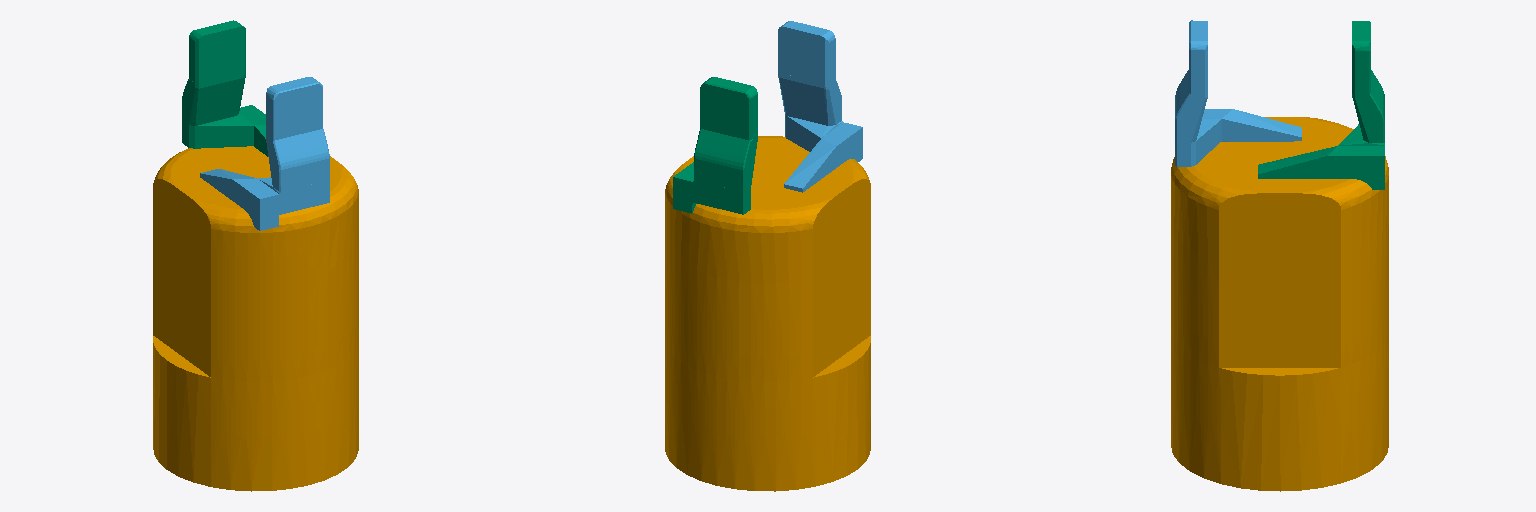
The robot description file, URDF, robot "bowen":
<robot name="bowen" version="1.6">
  <link name="robotiq_hande_gripper_body">
    <inertial>
      <mass value="1" />
      <inertia ixx="0.1" ixy="0" ixz="0" iyy="0.1" iyz="0" izz="0.1" />
    </inertial>
    <visual name="visual1">
      <origin rpy="0 0 0" xyz="0 0 0" />
      <geometry>
        <mesh filename="robotiq_hande/robotiq_hande_body_c01.stl">
        </mesh>
      </geometry>
    </visual>
    <visual name="visual2">
      <origin rpy="0 0 0" xyz="0 0 0" />
      <geometry>
        <mesh filename="robotiq_hande/robotiq_hande_body_c02.stl">
        </mesh>
      </geometry>
    </visual>
    <collision name="collision1">
      <origin rpy="0 0 0" xyz="0 0 0" />
      <geometry>
        <mesh filename="robotiq_hande/robotiq_hande_body_c01.stl">
        </mesh>
      </geometry>
    </collision>
    <collision name="collision2">
      <origin rpy="0 0 0" xyz="0 0 0" />
      <geometry>
        <mesh filename="robotiq_hande/robotiq_hande_body_c02.stl">
        </mesh>
      </geometry>
    </collision>
    <origin rpy="0.0 -0.0 0.0" xyz="0.0 0.0 0.0" />
  </link>


  <link name="robotiq_hande_gripper_finger1">
    <inertial>
      <mass value="1" />
      <inertia ixx="0.1" ixy="0" ixz="0" iyy="0.1" iyz="0" izz="0.1" />
    </inertial>
    <visual name="visual1">
      <origin rpy="0 0 0" xyz="0 0 0" />
      <geometry>
        <mesh filename="robotiq_hande/robotiq_hande_finger_c01.stl">
        </mesh>
      </geometry>
    </visual>
    <visual name="visual2">
      <origin rpy="0 0 0" xyz="0 0 0" />
      <geometry>
        <mesh filename="robotiq_hande/robotiq_hande_finger_c02.stl">
        </mesh>
      </geometry>
    </visual>
    <visual name="visual3">
      <origin rpy="0 0 0" xyz="0 0 0" />
      <geometry>
        <mesh filename="robotiq_hande/robotiq_hande_finger_c03.stl">
        </mesh>
      </geometry>
    </visual>
    <visual name="visual4">
      <origin rpy="0 0 0" xyz="0 0 0" />
      <geometry>
        <mesh filename="robotiq_hande/robotiq_hande_finger_c04.stl">
        </mesh>
      </geometry>
    </visual>
    <collision name="collision1">
      <origin rpy="0 0 0" xyz="0 0 0" />
      <geometry>
        <mesh filename="robotiq_hande/robotiq_hande_finger_c01.stl">
        </mesh>
      </geometry>
    </collision>
    <collision name="collision2">
      <origin rpy="0 0 0" xyz="0 0 0" />
      <geometry>
        <mesh filename="robotiq_hande/robotiq_hande_finger_c02.stl">
        </mesh>
      </geometry>
    </collision>
    <collision name="collision3">
      <origin rpy="0 0 0" xyz="0 0 0" />
      <geometry>
        <mesh filename="robotiq_hande/robotiq_hande_finger_c03.stl">
        </mesh>
      </geometry>
    </collision>
    <collision name="collision4">
      <origin rpy="0 0 0" xyz="0 0 0" />
      <geometry>
        <mesh filename="robotiq_hande/robotiq_hande_finger_c04.stl">
        </mesh>
      </geometry>
    </collision>
    <origin rpy="0.0 -0.0 0.0" xyz="0.0 0.0 0.0" />
  </link>
  <link name="robotiq_hande_gripper_finger2">
    <inertial>
      <mass value="1" />
      <inertia ixx="0.1" ixy="0" ixz="0" iyy="0.1" iyz="0" izz="0.1" />
    </inertial>
    <visual name="visual1">
      <origin rpy="0 0 3.14157" xyz="0 0 0" />
      <geometry>
        <mesh filename="robotiq_hande/robotiq_hande_finger_c01.stl">
        </mesh>
      </geometry>
    </visual>
    <visual name="visual2">
      <origin rpy="0 0 3.14157" xyz="0 0 0" />
      <geometry>
        <mesh filename="robotiq_hande/robotiq_hande_finger_c02.stl">
        </mesh>
      </geometry>
    </visual>
    <visual name="visual3">
      <origin rpy="0 0 3.14157" xyz="0 0 0" />
      <geometry>
        <mesh filename="robotiq_hande/robotiq_hande_finger_c03.stl">
        </mesh>
      </geometry>
    </visual>
    <visual name="visual4">
      <origin rpy="0 0 3.14157" xyz="0 0 0" />
      <geometry>
        <mesh filename="robotiq_hande/robotiq_hande_finger_c04.stl">
        </mesh>
      </geometry>
    </visual>
    <collision name="collision1">
      <origin rpy="0 0 3.14157" xyz="0 0 0" />
      <geometry>
        <mesh filename="robotiq_hande/robotiq_hande_finger_c01.stl">
        </mesh>
      </geometry>
    </collision>
    <collision name="collision2">
      <origin rpy="0 0 3.14157" xyz="0 0 0" />
      <geometry>
        <mesh filename="robotiq_hande/robotiq_hande_finger_c02.stl">
        </mesh>
      </geometry>
    </collision>
    <collision name="collision3">
      <origin rpy="0 0 3.14157" xyz="0 0 0" />
      <geometry>
        <mesh filename="robotiq_hande/robotiq_hande_finger_c03.stl">
        </mesh>
      </geometry>
    </collision>
    <collision name="collision4">
      <origin rpy="0 0 3.14157" xyz="0 0 0" />
      <geometry>
        <mesh filename="robotiq_hande/robotiq_hande_finger_c04.stl">
        </mesh>
      </geometry>
    </collision>
    <origin rpy="0.0 -0.0 0.0" xyz="0.0 0.0 0.0" />
  </link>


  <link name="robotiq_hande_sticky_link">
    <inertial>
      <mass value="0.001" />
      <origin rpy="0 0 0" xyz="0 0 0" />
      <inertia ixx="0.00000160833269" ixy="0" ixz="0" iyy="0.00000160833269" iyz="0" izz="0.0000032" />
    </inertial>
    <collision name="collision_grip">
      <origin rpy="0 0 0" xyz="0 0 0.0" />
      <geometry>
        <cylinder length="0.04" radius="0.02">
        </cylinder>
      </geometry>
    </collision>
    <origin rpy="0.0 -0.0 0.0" xyz="0.0 0.0 0.128" />
  </link>
  <joint name="sticky_link_joint" type="fixed">
    <parent link="robotiq_hande_gripper_body" />
    <child link="robotiq_hande_sticky_link" />
    <origin rpy="0.0 -0.0 0.0" xyz="0.0 0.0 0.128" />
  </joint>

  <joint name="finger1" type="prismatic">
    <parent link="robotiq_hande_gripper_body" />
    <child link="robotiq_hande_gripper_finger1" />
    <limit lower="0" upper="0.025" />
    <axis xyz="0 1 0" />
    <origin rpy="0.0 -0.0 0.0" xyz="0.0 0.0 0.0" />
  </joint>
  <joint name="finger2" type="prismatic">
    <parent link="robotiq_hande_gripper_body" />
    <child link="robotiq_hande_gripper_finger2" />
    <limit lower="0" upper="0.025" />
    <axis xyz="0 -1 0" />
    <origin rpy="0.0 -0.0 0.0" xyz="0.0 0.0 0.0" />
  </joint>

</robot>

--- Facts derived from the render (not from the file) ---
Views: 3 orthographic renders of the robot side by side, from view 1: azimuth 30°, elevation 25°; view 2: azimuth 150°, elevation 25°; view 3: azimuth 270°, elevation 25°.
Robot: bowen — 4 links, 3 joints (2 prismatic, 1 fixed); root link robotiq_hande_gripper_body; default pose: every joint at zero.
Visible links, largest first — view 1: robotiq_hande_gripper_body, robotiq_hande_gripper_finger1, robotiq_hande_gripper_finger2; view 2: robotiq_hande_gripper_body, robotiq_hande_gripper_finger1, robotiq_hande_gripper_finger2; view 3: robotiq_hande_gripper_body, robotiq_hande_gripper_finger2, robotiq_hande_gripper_finger1.
Link boxes in pixels (x1,y1,x2,y2): robotiq_hande_gripper_body: [153, 146, 358, 491]; robotiq_hande_gripper_finger1: [200, 77, 329, 230]; robotiq_hande_gripper_finger2: [182, 20, 267, 156]; robotiq_hande_gripper_body: [665, 136, 870, 491]; robotiq_hande_gripper_finger1: [778, 21, 862, 192]; robotiq_hande_gripper_finger2: [673, 77, 757, 214]; robotiq_hande_gripper_body: [1171, 117, 1388, 491]; robotiq_hande_gripper_finger2: [1258, 21, 1384, 189]; robotiq_hande_gripper_finger1: [1175, 20, 1301, 166].
Size in the robot's own frame: 0.075 by 0.075 by 0.1571 metres.
Meshes: 6 distinct files referenced, 10 mesh visuals loaded (6 binary STL).
